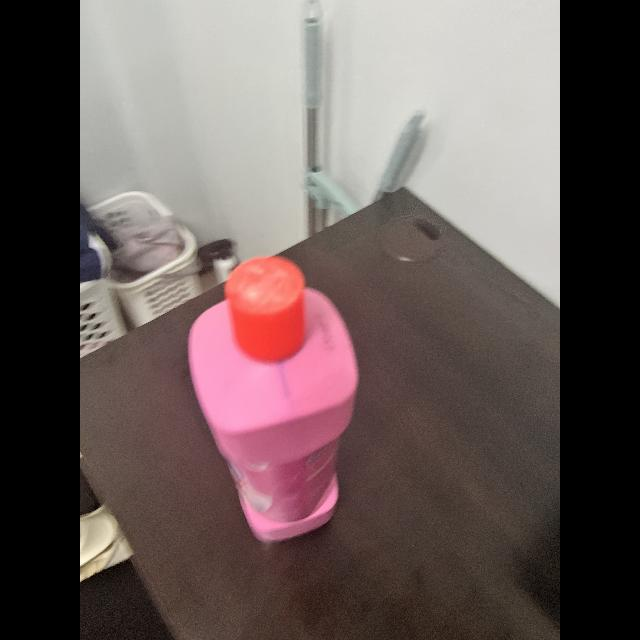chemical_plastic_bottle: (179, 252, 369, 552)
